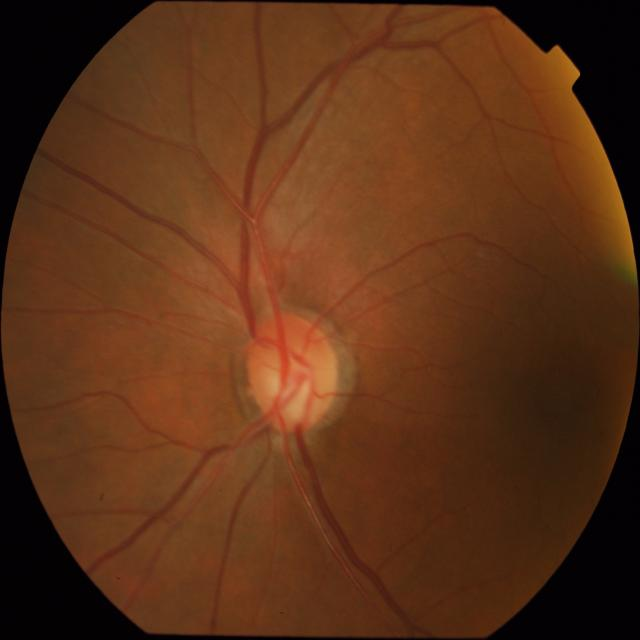OC: (265, 363, 315, 422)
OD: (244, 311, 340, 431)
